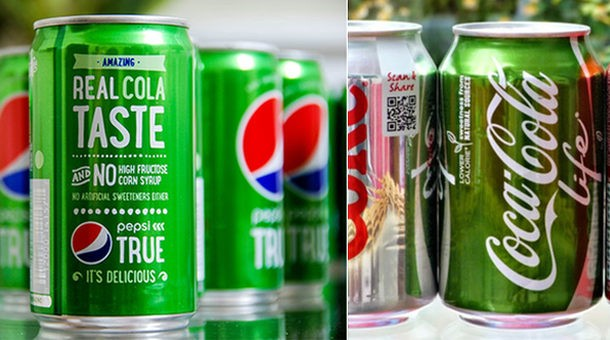can: (28, 15, 198, 335), (438, 21, 605, 328), (347, 20, 438, 330), (195, 38, 284, 306), (278, 45, 332, 302), (1, 42, 39, 308)
